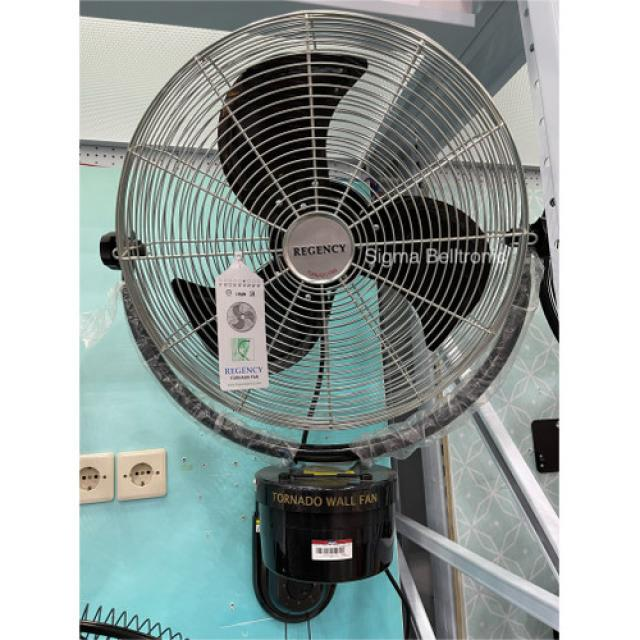fan: (92, 5, 540, 589)
